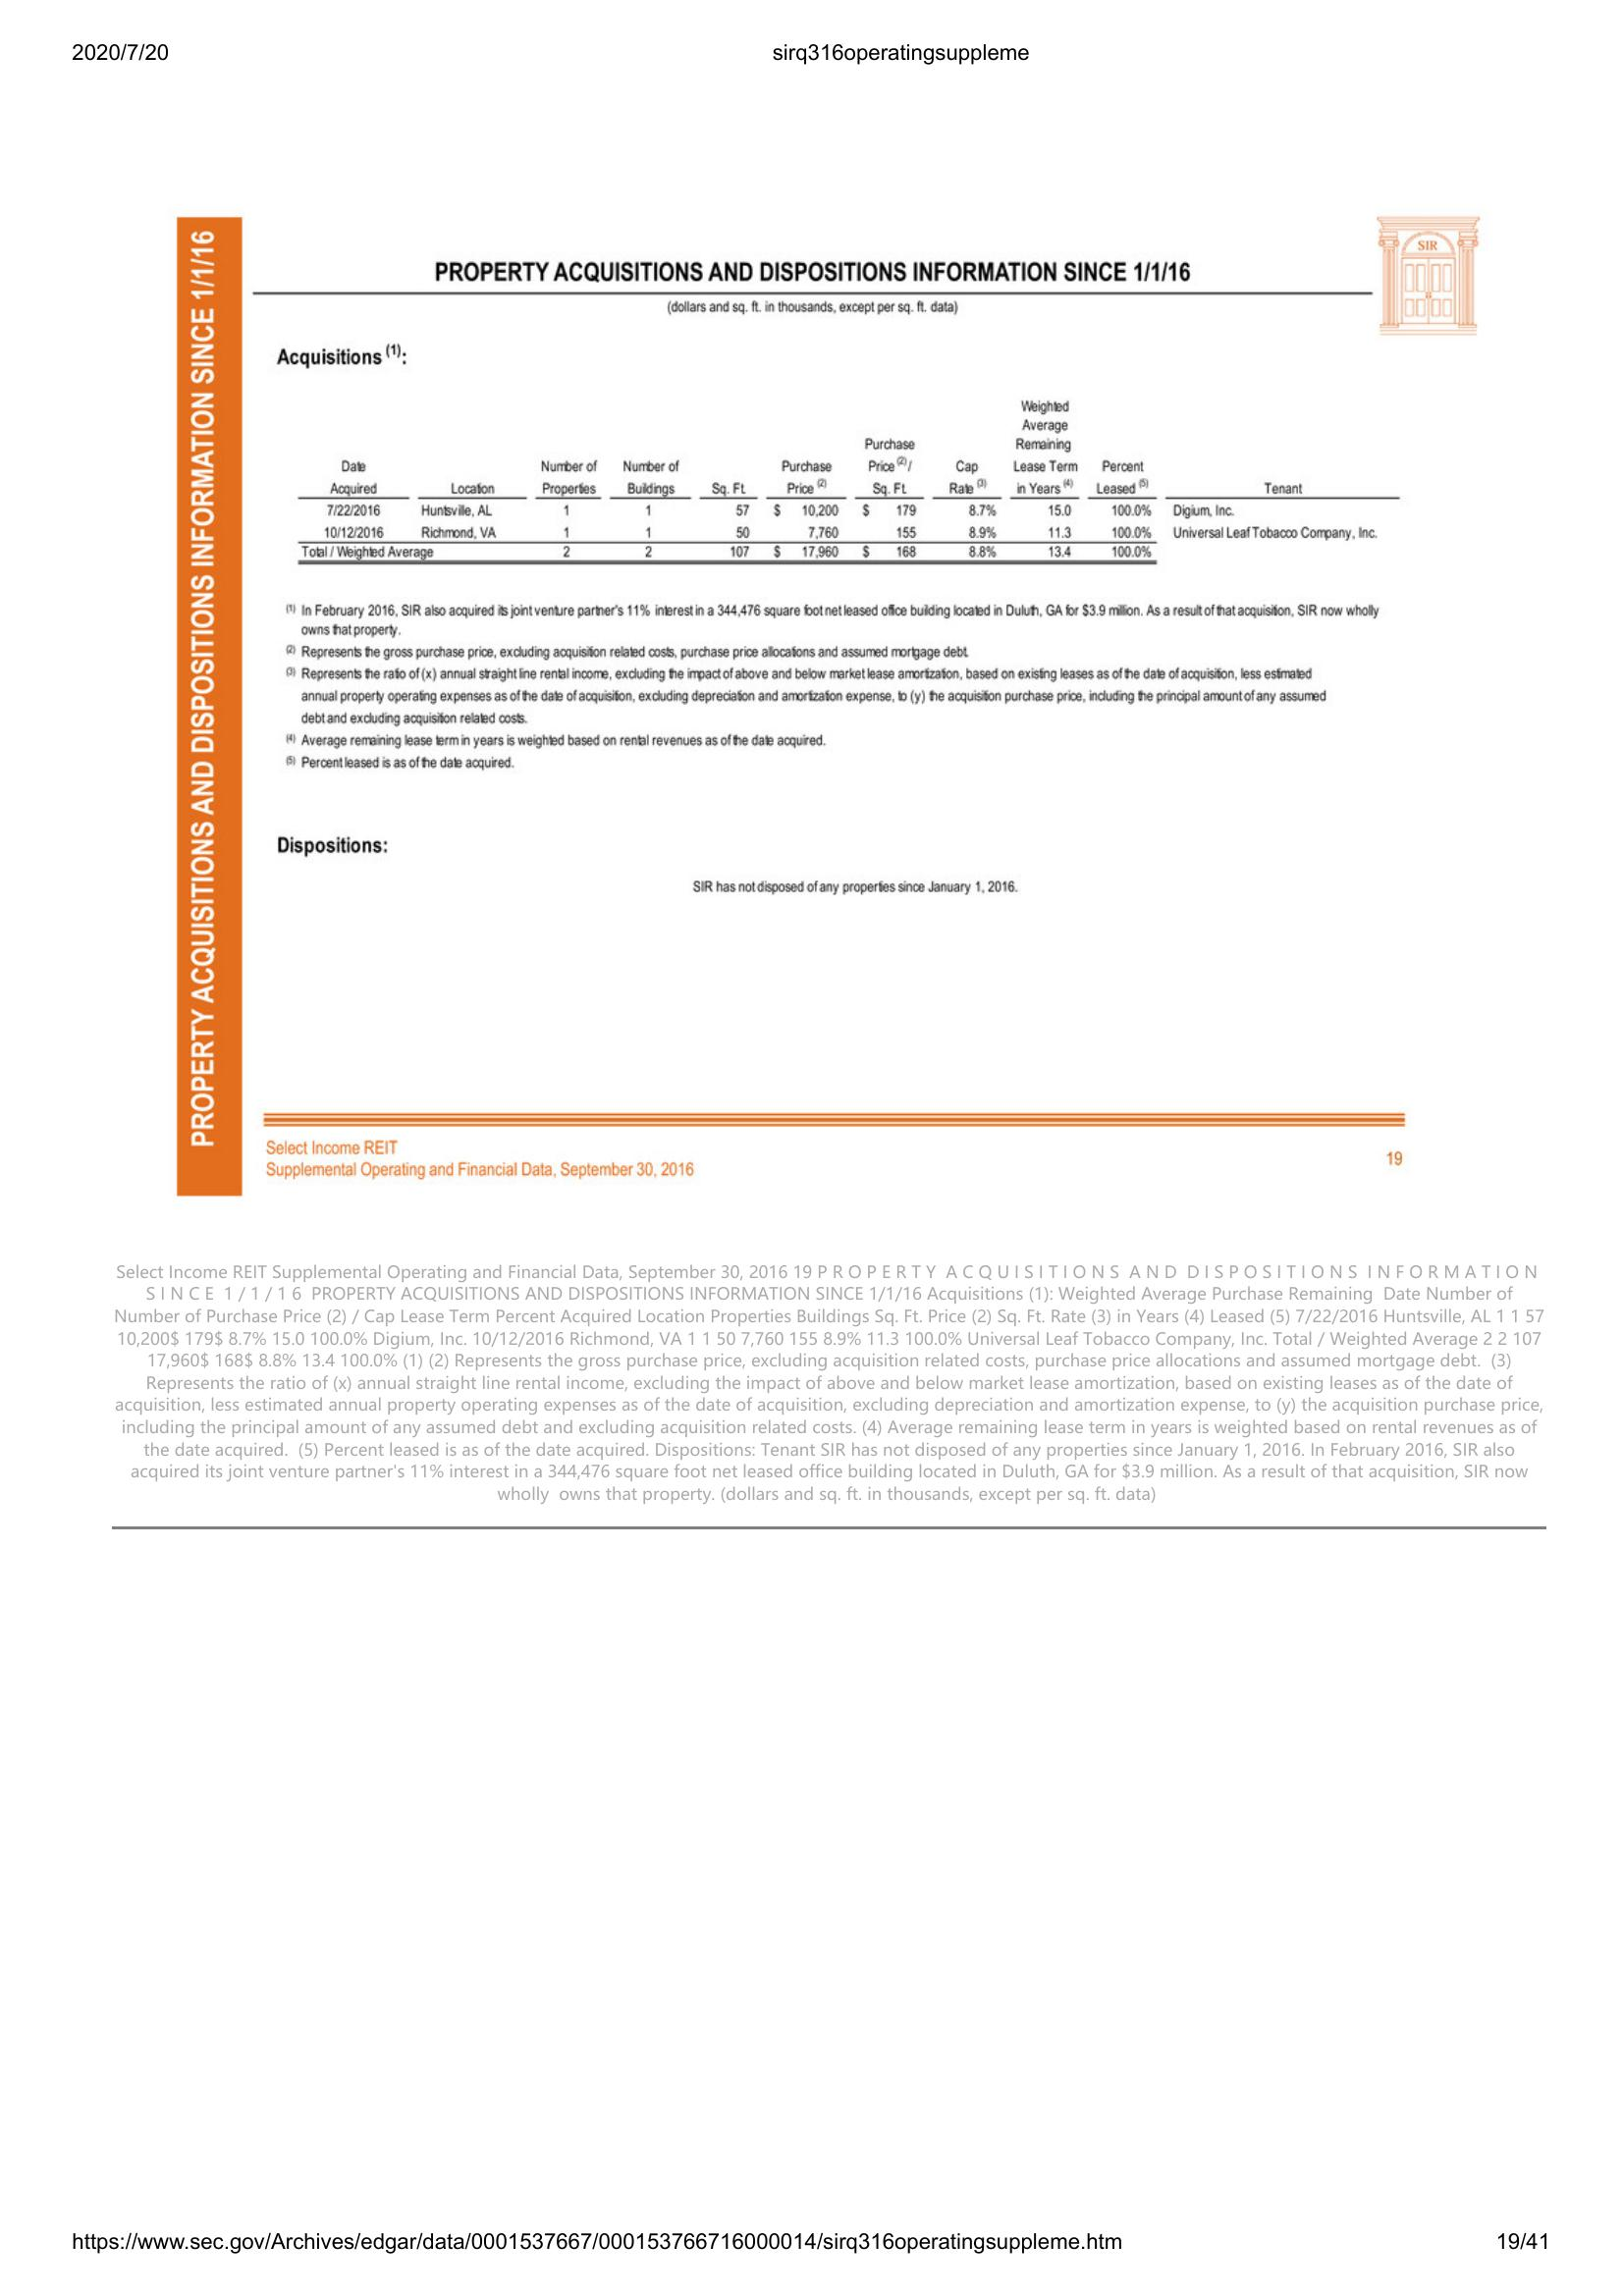table: (295, 393, 1405, 576)
